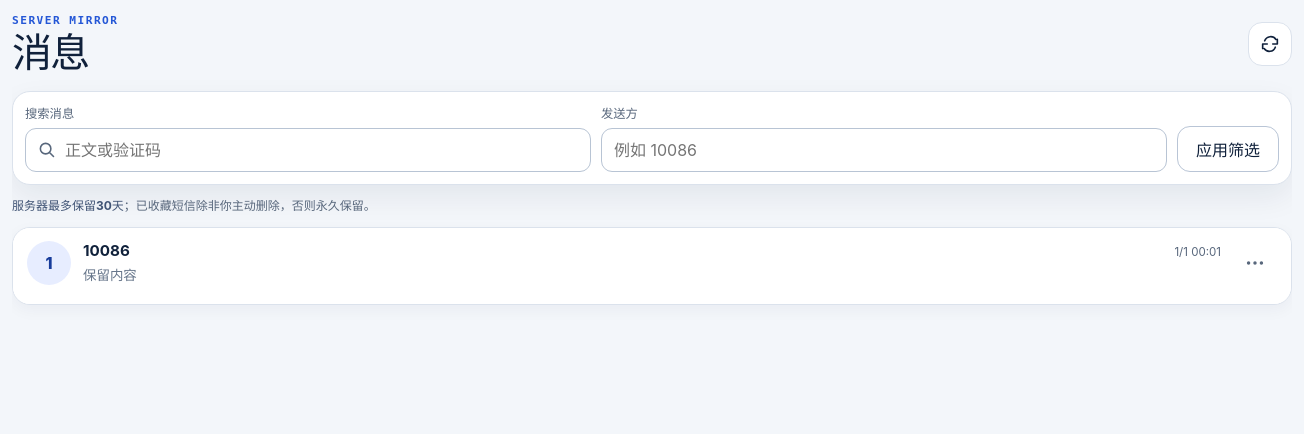
it: MessagesView › 已有短信时后台刷新不闪成加载态且失败不覆盖列表
The image size is (1304, 434).
Expected: the text "保留内容" is shown, [83, 266, 137, 282]
Click the button named "刷新消息" at (1270, 44), box [1248, 22, 1292, 66]
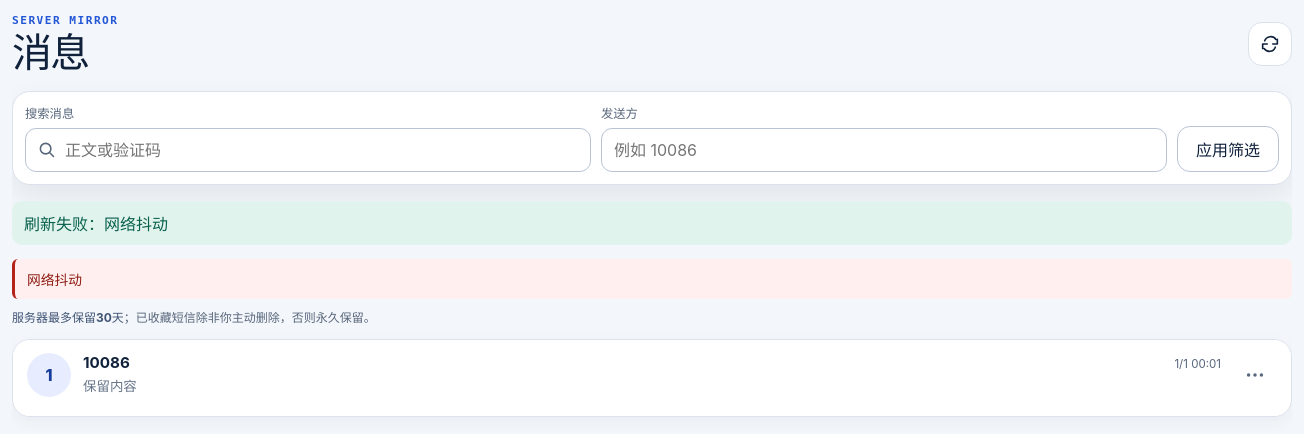
Expected: the text "保留内容" is shown, [83, 378, 137, 394]
Result: the text "网络抖动" is shown at [12, 259, 1292, 299]
